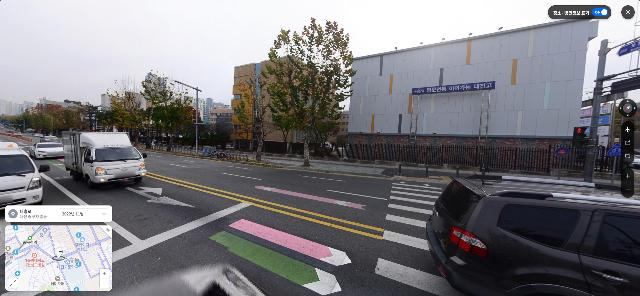other: (267, 17, 357, 167), (139, 71, 196, 152), (230, 61, 273, 162), (106, 72, 154, 149), (93, 99, 143, 147), (22, 98, 82, 135)
